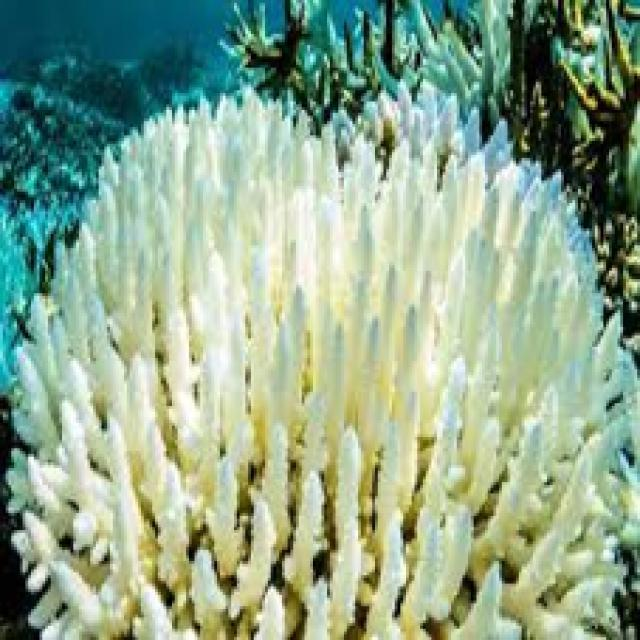Bleached: (19, 91, 636, 640)
